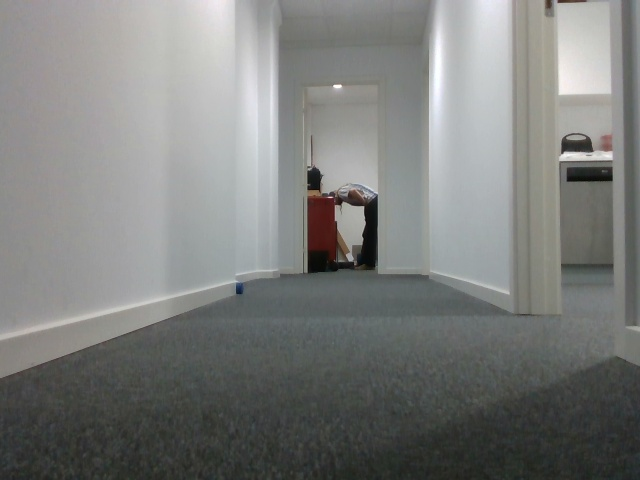alfa: (233, 280, 245, 297)
